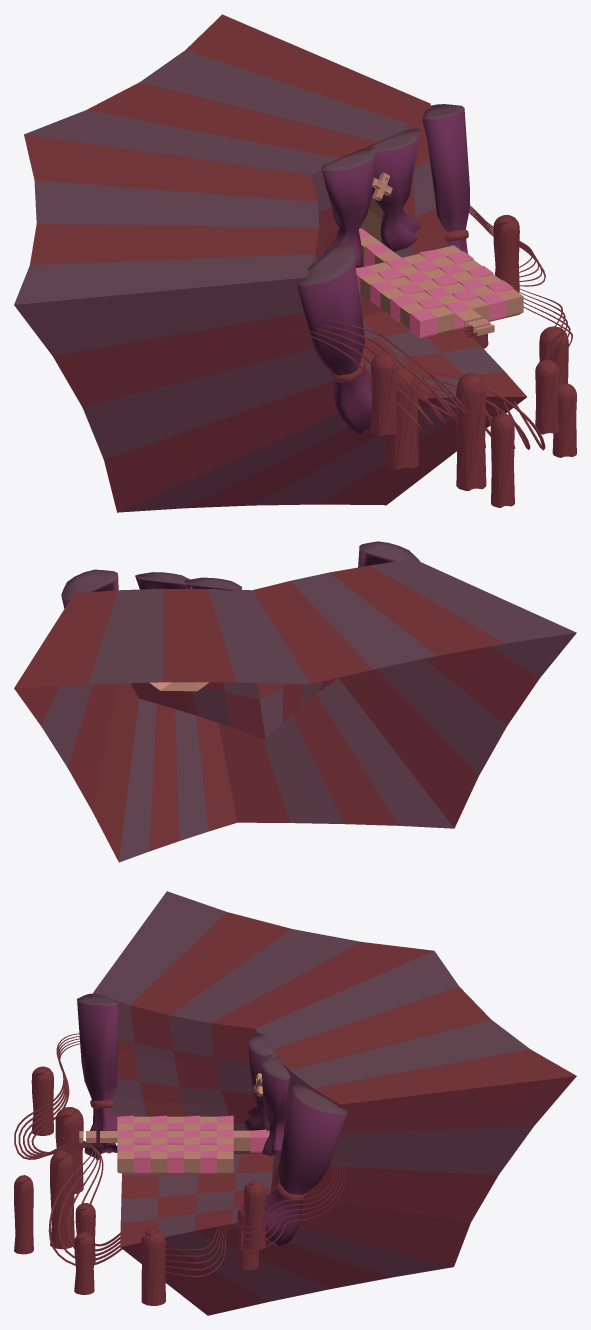
The model's file is MusicPuzzleBlockRedesign2.fbx.
3 renders of one model, top to bottom at view 1: azimuth 30°, elevation 25°; view 2: azimuth 150°, elevation 25°; view 3: azimuth 270°, elevation 25°, orthographic. The views are drawn at different scales.
Parts seen in each view (by area): view 1: PuzzleEnvironment, PuzzleEnvironmentFloor; view 2: PuzzleEnvironment; view 3: PuzzleEnvironment, PuzzleEnvironmentFloor.
Boxes of the visible parts, x1,y1,x2,y2 form: PuzzleEnvironment: (14, 14, 576, 512); PuzzleEnvironmentFloor: (356, 228, 523, 338); PuzzleEnvironment: (14, 541, 576, 862); PuzzleEnvironment: (14, 891, 576, 1315); PuzzleEnvironmentFloor: (79, 1115, 269, 1173).
Size of the model in its own units: 6768 by 3620 by 6775.
